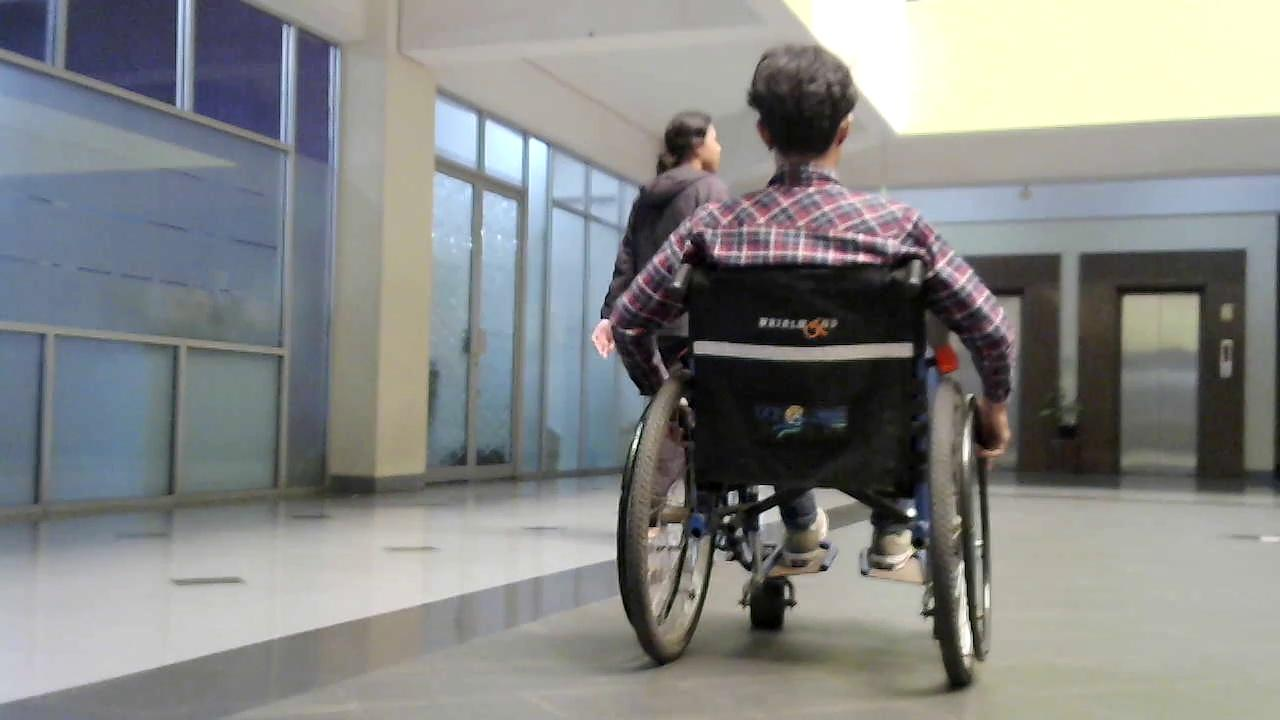person: (602, 43, 1017, 588)
wheelchair: (595, 249, 1013, 700)
